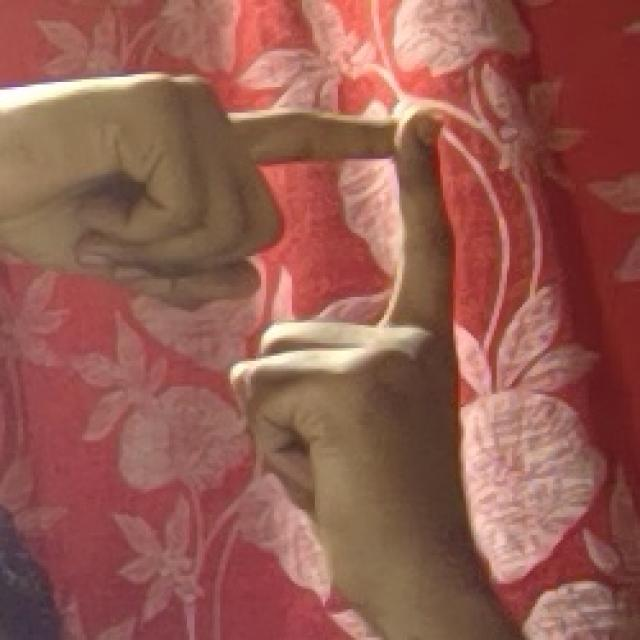Alphabet-E: (39, 55, 468, 574)
